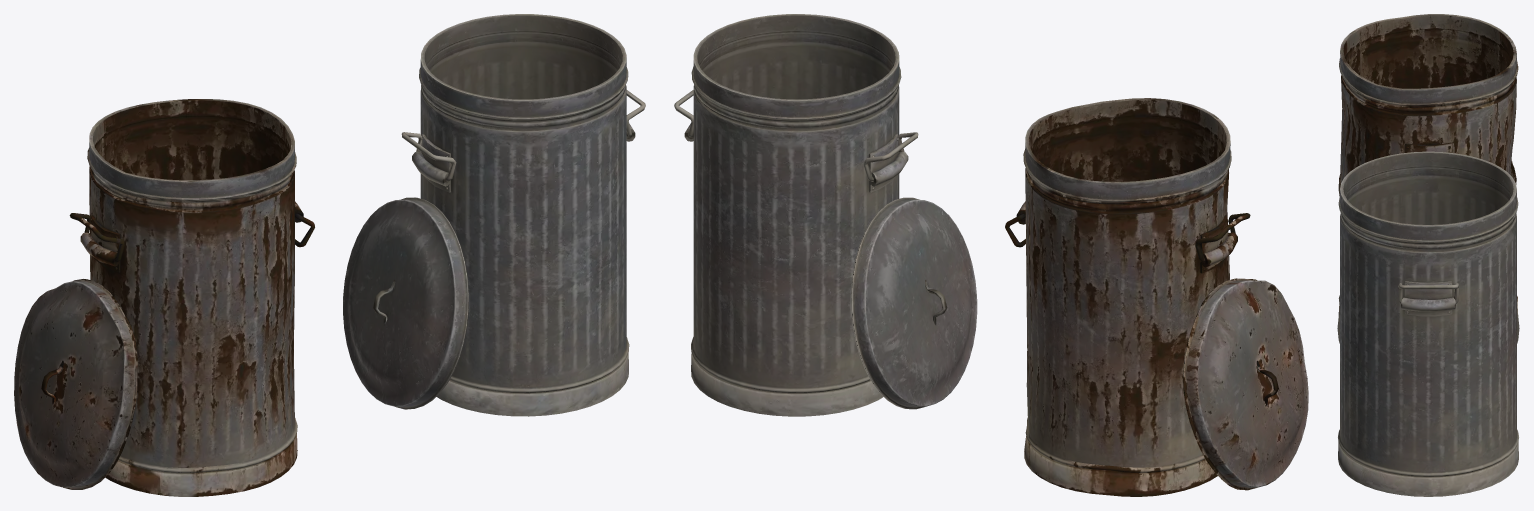
The model's file is metal_trash_can.glb.
The picture shows the model from 3 angles, left to right: view 1: azimuth 30°, elevation 25°; view 2: azimuth 150°, elevation 25°; view 3: azimuth 270°, elevation 25°; orthographic projection. The views are drawn at different scales.
Parts seen in each view (by area): view 1: metal_trash_can_handle_left, metal_trash_can_rust; view 2: metal_trash_can_handle_left, metal_trash_can_rust; view 3: metal_trash_can_handle_left, metal_trash_can_rust.
Part boxes in pixels (left/top/right/bottom): metal_trash_can_handle_left: left=343, top=14, right=645, bottom=416; metal_trash_can_rust: left=14, top=99, right=314, bottom=496; metal_trash_can_handle_left: left=674, top=14, right=977, bottom=416; metal_trash_can_rust: left=1005, top=98, right=1308, bottom=496; metal_trash_can_handle_left: left=1337, top=151, right=1519, bottom=496; metal_trash_can_rust: left=1338, top=14, right=1518, bottom=316.
Bounding box in the file's own units: 1.78 × 0.9062 × 0.5543.
Materials: 2 (2 with a texture image).
